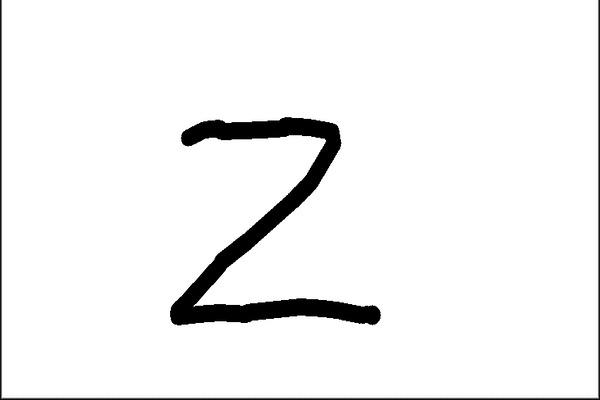Z: (164, 110, 386, 335)
